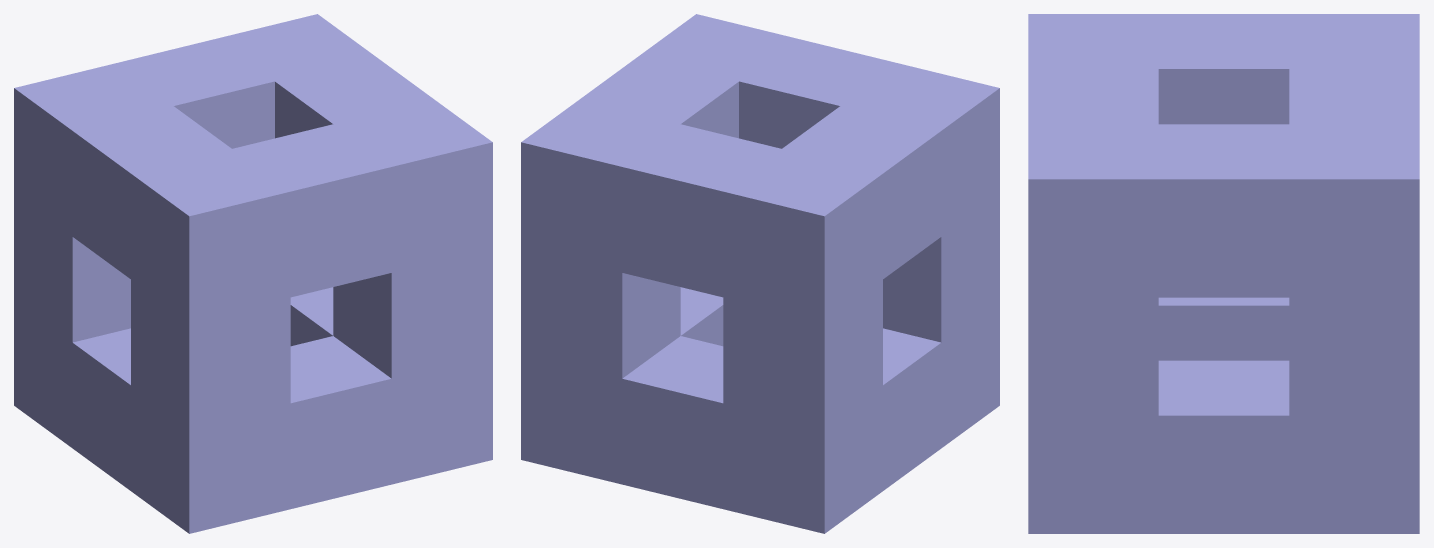
The model's file is Sponge.gltf.
3 views of the same model, side by side, from view 1: azimuth 30°, elevation 25°; view 2: azimuth 150°, elevation 25°; view 3: azimuth 270°, elevation 25° (orthographic). The views are drawn at different scales.
Parts seen in each view (by area): view 1: Sponge; view 2: Sponge; view 3: Sponge.
Part boxes in pixels (<box>): Sponge: <box>14,14,492,533</box>; Sponge: <box>521,14,999,533</box>; Sponge: <box>1028,14,1419,533</box>.
Bounding box in the file's own units: 2 × 2 × 2.
